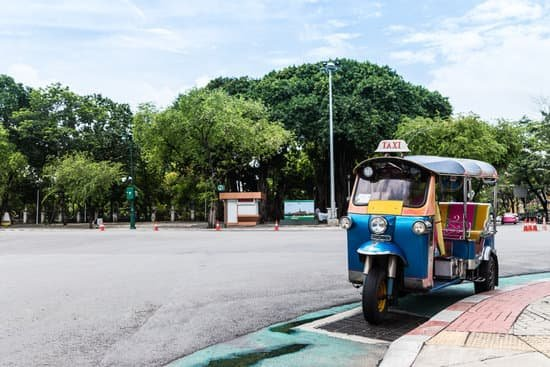threewheel: (338, 139, 499, 325)
